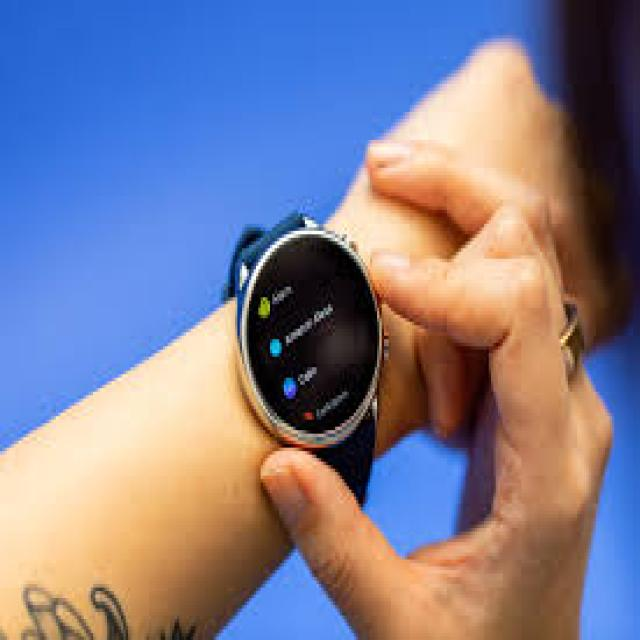objects: (225, 207, 405, 498)
